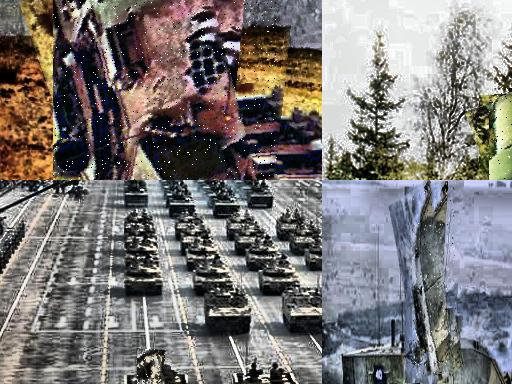tanks: (55, 1, 264, 181), (414, 181, 457, 377), (176, 214, 220, 272), (206, 289, 251, 334), (278, 211, 320, 256), (284, 288, 323, 334), (259, 255, 300, 295), (195, 256, 232, 295), (128, 264, 164, 297), (139, 351, 170, 384), (232, 369, 296, 384), (306, 240, 323, 272)
